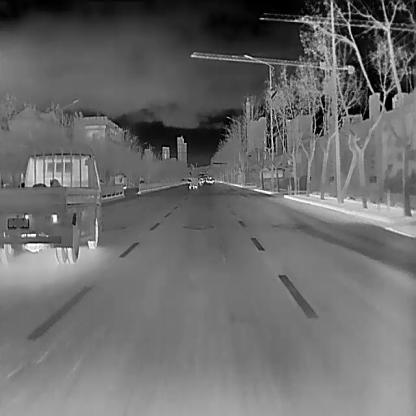car: (259, 166, 298, 190), (205, 176, 216, 184), (198, 176, 204, 186), (138, 176, 143, 184)
truck: (0, 146, 109, 263), (188, 176, 198, 190)
